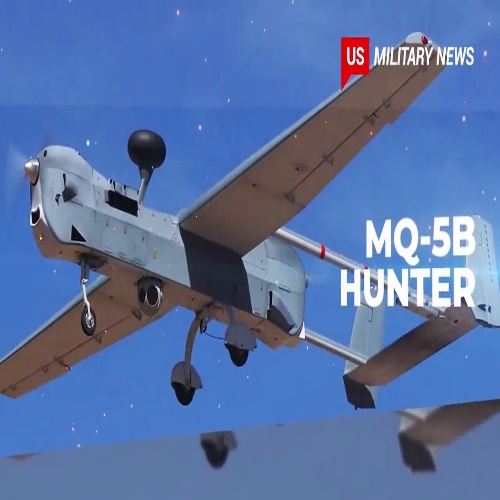uav: (4, 33, 489, 408)
